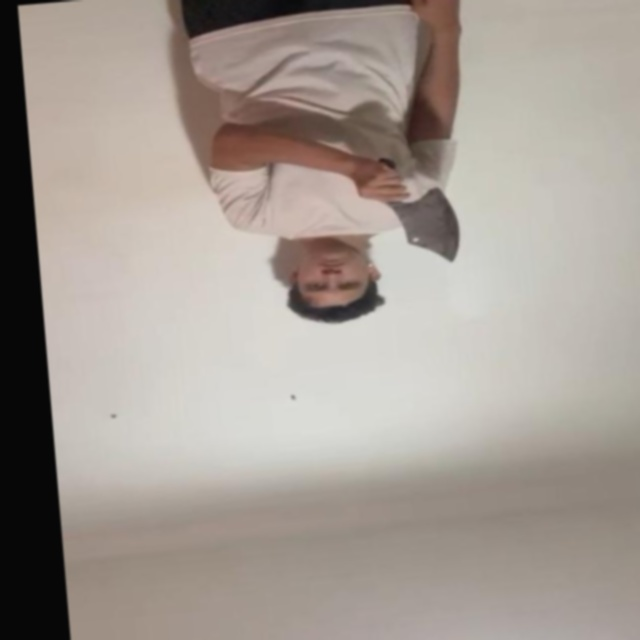Sharp-Object: (392, 191, 464, 270)
